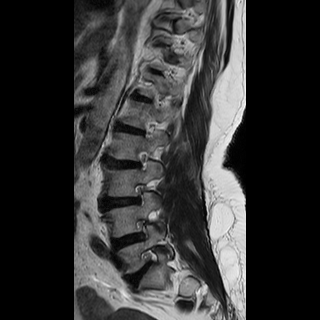LFS0: (129, 146, 155, 177)
LFS2: (126, 178, 150, 211)
LFS3: (125, 215, 153, 245)
